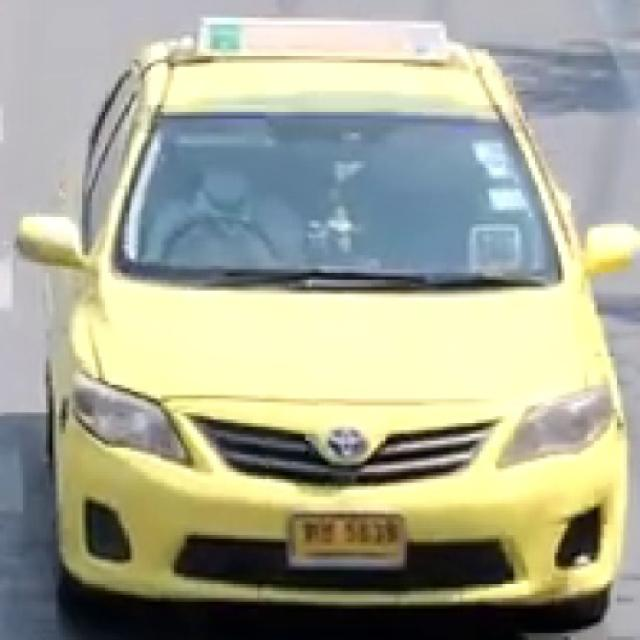plate: (292, 513, 404, 567)
